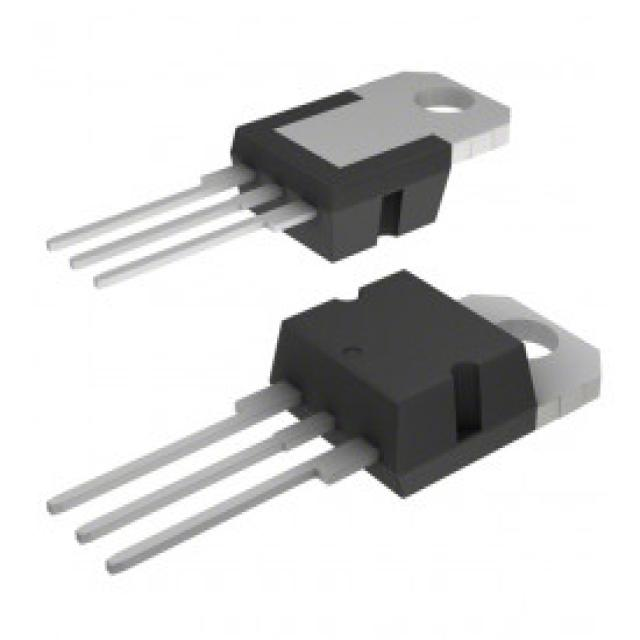Transistor: (44, 271, 600, 576), (49, 72, 514, 289)
